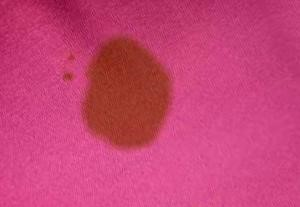stain: (82, 34, 179, 159), (63, 71, 77, 83), (67, 49, 78, 61)
